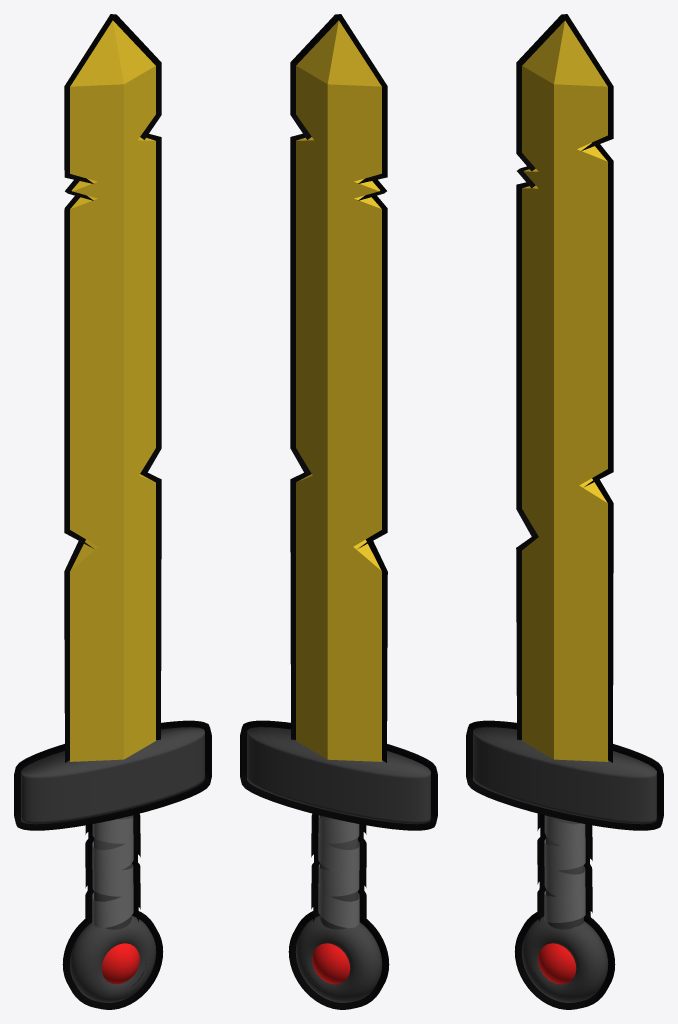
Rendered from scarlet_sword_adventure_time.glb.
3 views of the same model, side by side, from view 1: azimuth 30°, elevation 25°; view 2: azimuth 150°, elevation 25°; view 3: azimuth 330°, elevation 25° (orthographic).
Parts seen in each view (by area): view 1: Scarlet.001, ScarletOutline; view 2: Scarlet.001, ScarletOutline; view 3: Scarlet.001, ScarletOutline.
Part boxes in pixels (bbox=[...]): Scarlet.001: bbox=[21, 20, 204, 1002]; ScarletOutline: bbox=[14, 14, 211, 1009]; Scarlet.001: bbox=[247, 20, 430, 1002]; ScarletOutline: bbox=[240, 14, 437, 1009]; Scarlet.001: bbox=[473, 20, 656, 1002]; ScarletOutline: bbox=[466, 14, 663, 1009].
Size of the model in its own units: 6.4 by 31.26 by 1.98.
